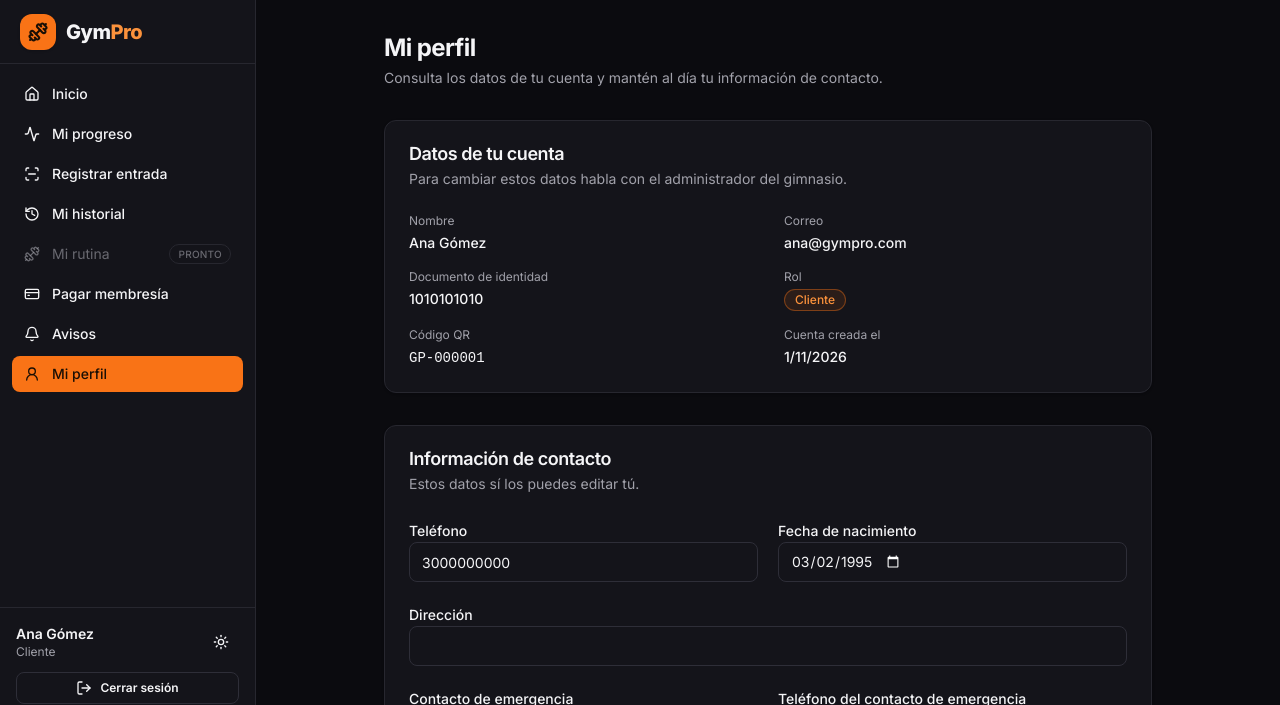
it: Mi perfil · información de contacto › envía solo lo que cambió y confirma
Expected: the heading "Mi perfil" is shown, [384,33,476,62]
In the field labelled "Dirección": (768, 646) [409,626,1127,666], type "  Calle 1 # 2-3 "
(page scrolled)
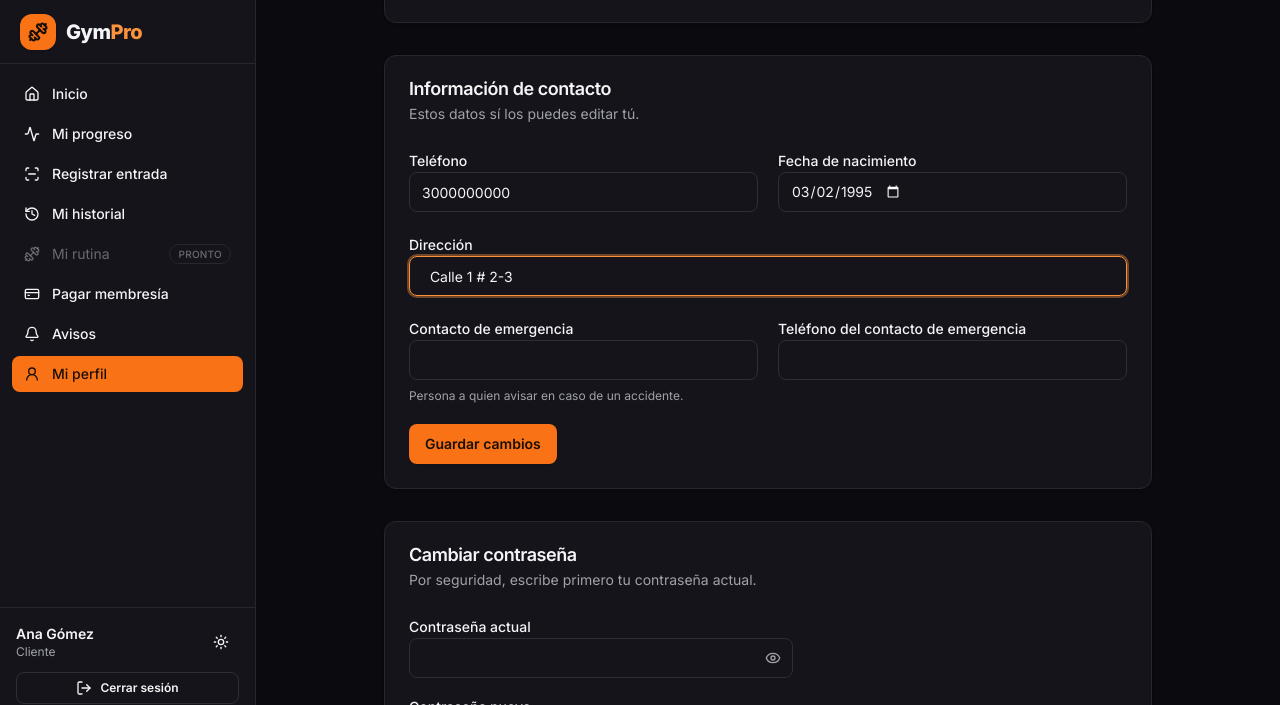
In the field labelled "Contacto de emergencia": (584, 360) [409,340,758,380], type "María Gómez"
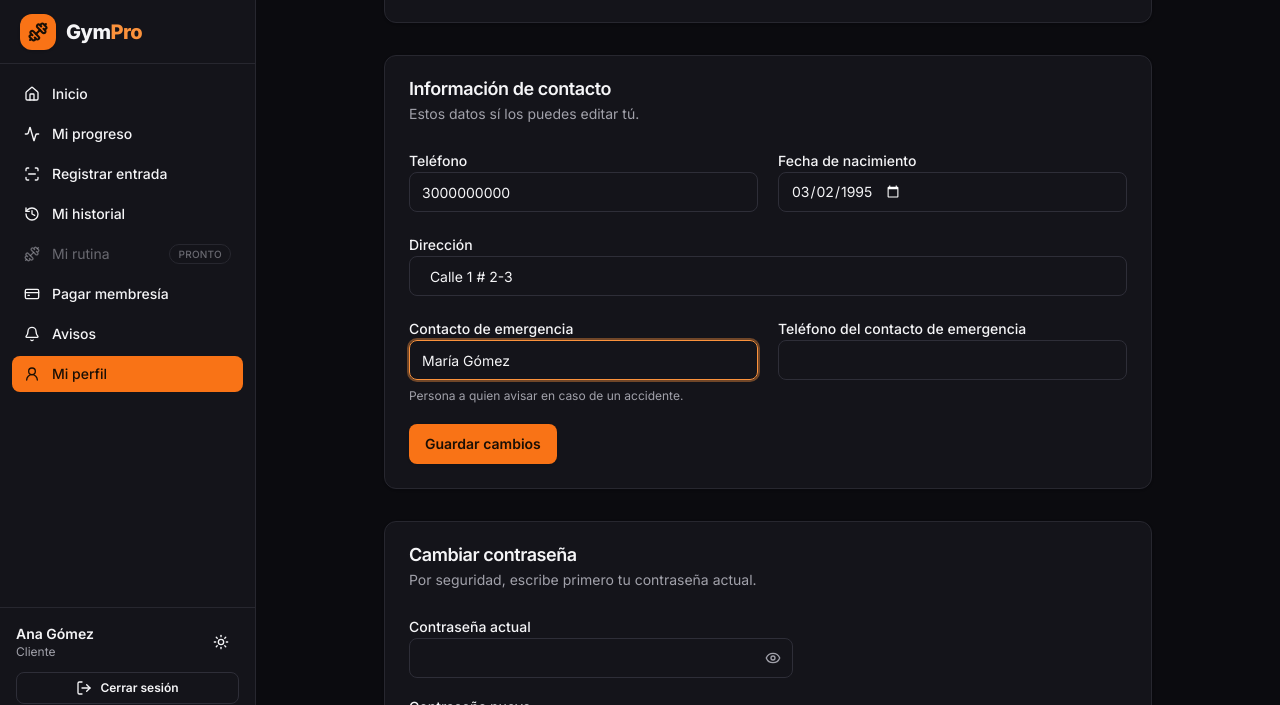
Click the button "Guardar cambios": (483, 444) [409,424,557,464]
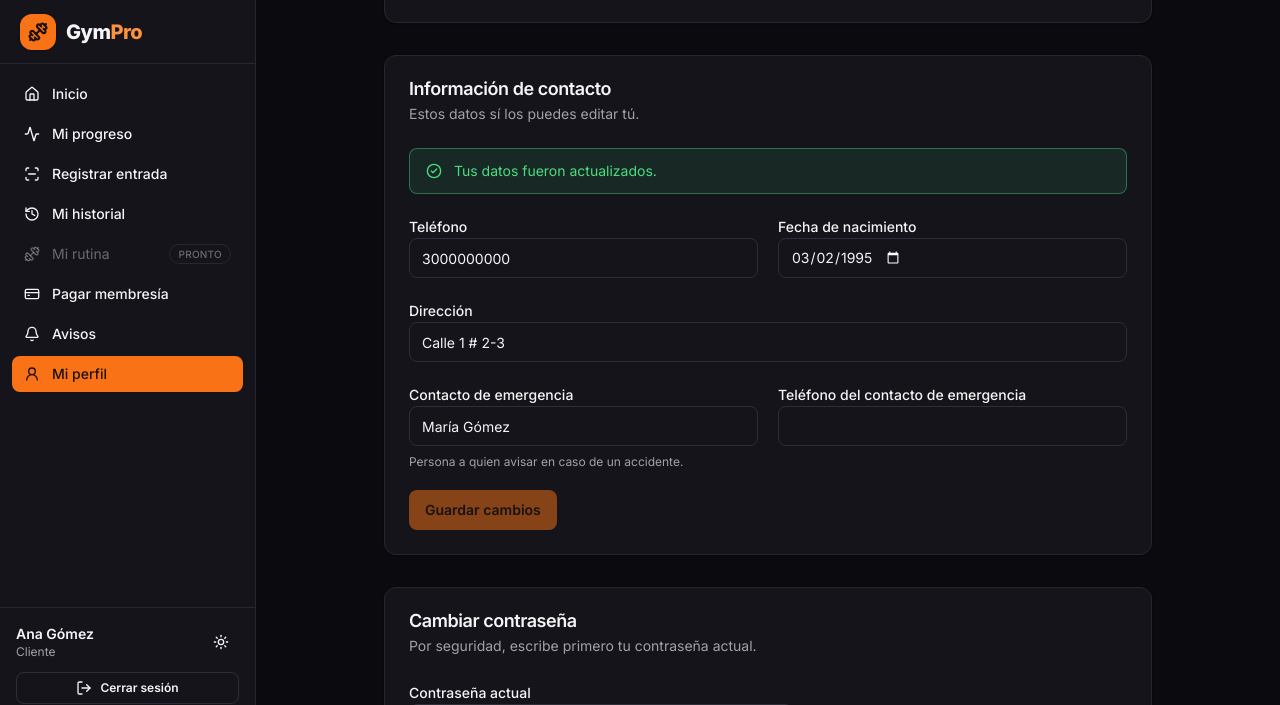
Expected: the text "Tus datos fueron actualizados." is shown, [454,161,657,181]
Expected: the button "Guardar cambios" is disabled, [409,490,557,530]
